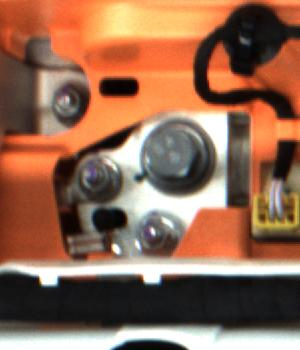nut_b: (138, 118, 221, 199)
